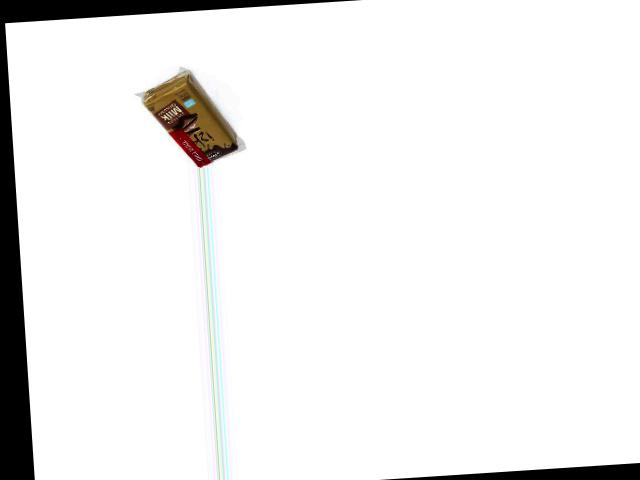chocolate: (129, 68, 240, 169)
